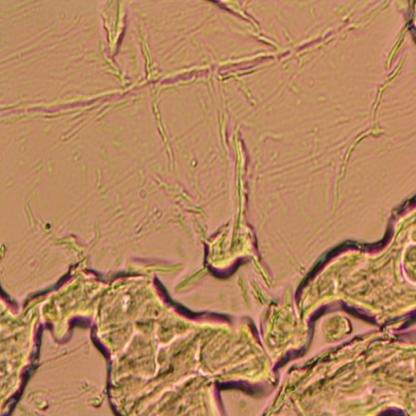Normal: (0, 187, 416, 416)
